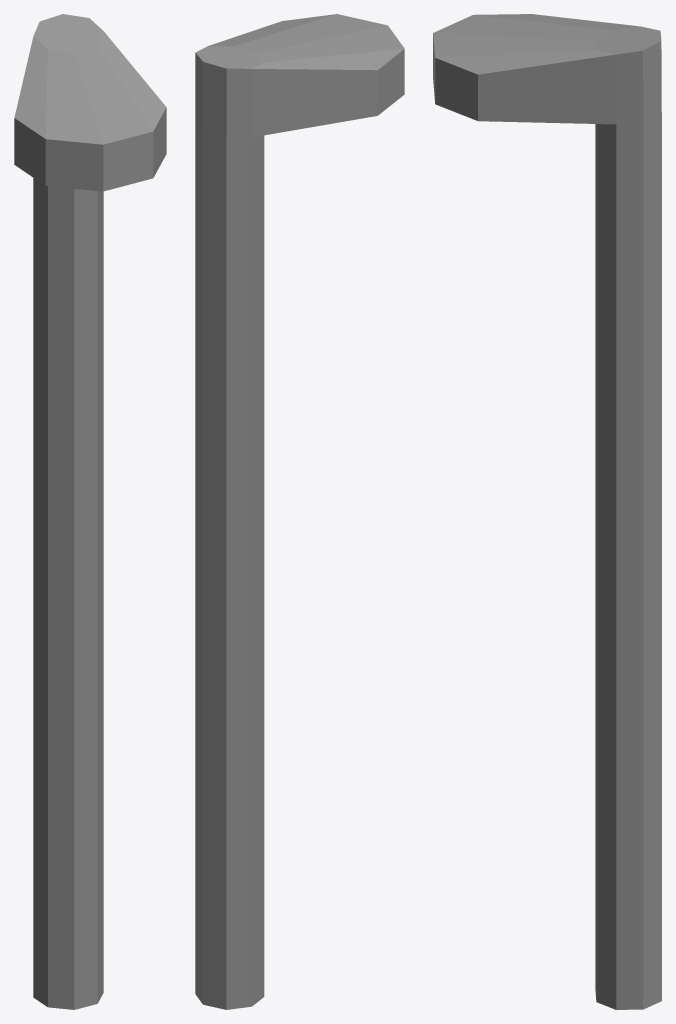
The model's file is light_(pole)_metal_(scratched)_0_lev3.glb.
The picture shows the model from 3 angles, left to right: view 1: azimuth 30°, elevation 25°; view 2: azimuth 150°, elevation 25°; view 3: azimuth 270°, elevation 25°; orthographic projection. The views are drawn at different scales.
Visible parts, largest first — view 1: light_(pole)_metal_(scratched)_0_lev3; view 2: light_(pole)_metal_(scratched)_0_lev3; view 3: light_(pole)_metal_(scratched)_0_lev3.
Boxes of the visible parts, x1=… form: light_(pole)_metal_(scratched)_0_lev3: x1=14, y1=14, x2=166, y2=1009; light_(pole)_metal_(scratched)_0_lev3: x1=195, y1=14, x2=404, y2=1009; light_(pole)_metal_(scratched)_0_lev3: x1=433, y1=14, x2=661, y2=1009.
Size of the model in its own units: 0.2119 by 1.48 by 0.3203.
Materials: 1 (1 with a texture image).
